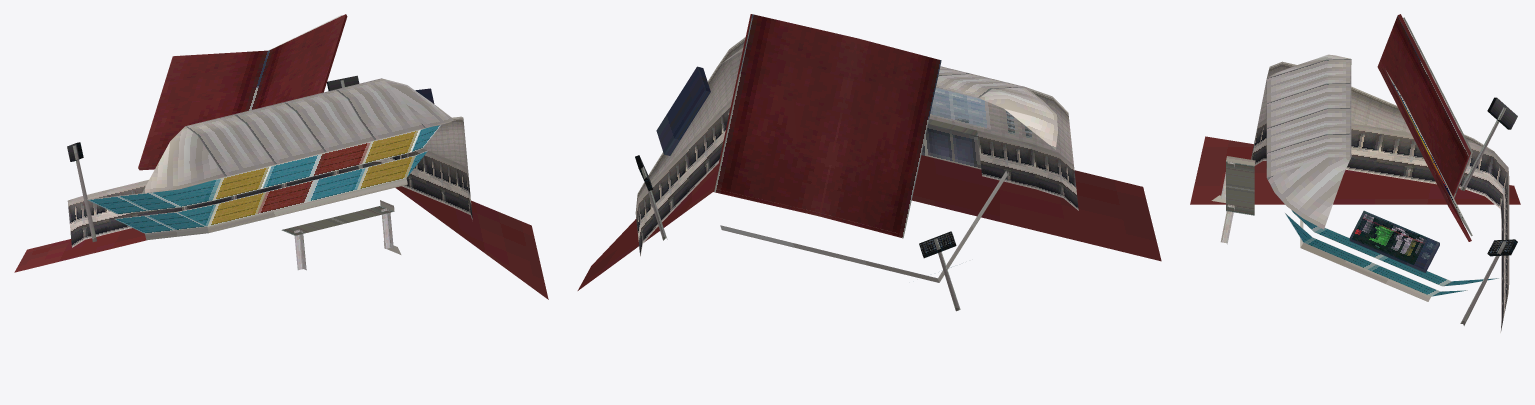
Rendered from ps2_save-icons_letsmakeasoccerteam.glb.
3 views of the same model, side by side, from view 1: azimuth 30°, elevation 25°; view 2: azimuth 150°, elevation 25°; view 3: azimuth 270°, elevation 25° (orthographic). The views are drawn at different scales.
Parts seen in each view (by area): view 1: static.ico; view 2: static.ico; view 3: static.ico.
Part boxes in pixels (bbox=[...]): static.ico: bbox=[14, 14, 548, 299]; static.ico: bbox=[577, 14, 1161, 311]; static.ico: bbox=[1190, 14, 1520, 332].
Bounding box in the file's own units: 4.92 × 2.96 × 3.69.
Materials: 1 (1 with a texture image).
